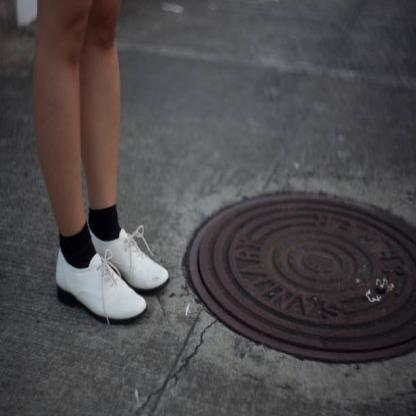manholes: (168, 151, 416, 392)
